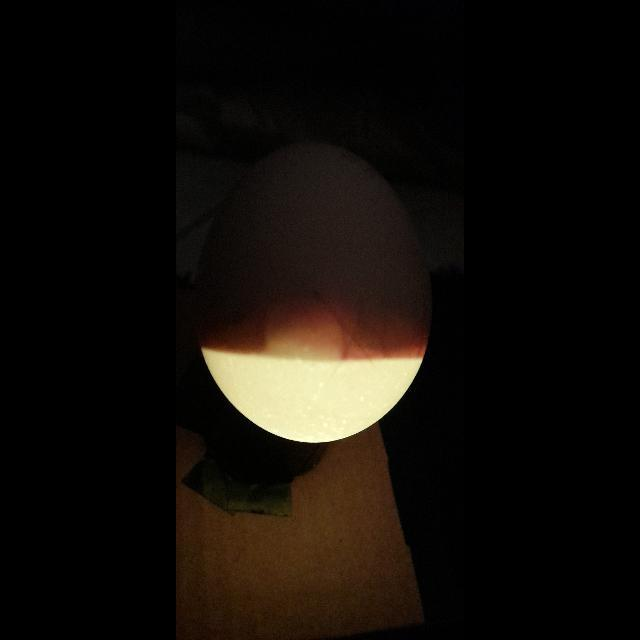Fertile: (194, 138, 433, 454)
